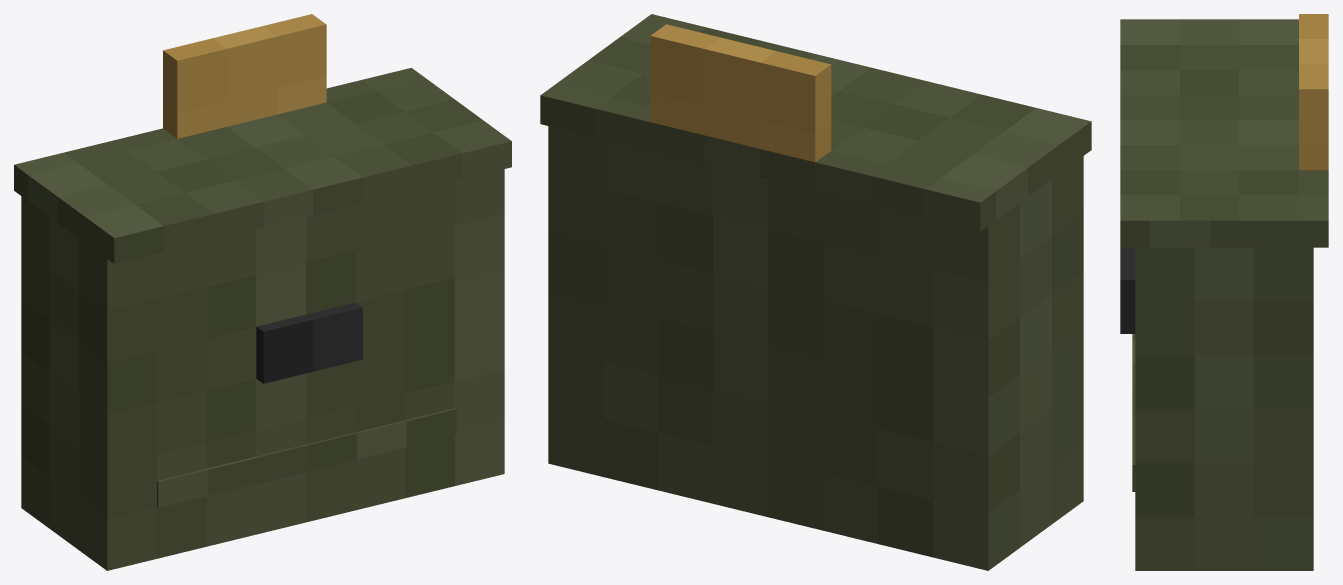
File: KatangaMg1_Magazine.glb
3 views of the same model, side by side, from view 1: azimuth 30°, elevation 25°; view 2: azimuth 150°, elevation 25°; view 3: azimuth 270°, elevation 25° (orthographic). The views are drawn at different scales.
Parts seen in each view (by area): view 1: Ammo box, Ammo box lid, Belt, Ammo box rib, Ammo box latch; view 2: Ammo box, Ammo box lid, Belt; view 3: Ammo box, Ammo box lid, Belt, Ammo box latch, Ammo box rib.
Part boxes in pixels (<box>): Ammo box: <box>21,169,504,570</box>; Ammo box lid: <box>14,68,511,263</box>; Belt: <box>163,14,326,138</box>; Ammo box rib: <box>157,408,456,507</box>; Ammo box latch: <box>256,302,362,383</box>; Ammo box: <box>548,126,1083,570</box>; Ammo box lid: <box>540,14,1091,231</box>; Belt: <box>650,24,831,162</box>; Ammo box: <box>1135,247,1313,570</box>; Ammo box lid: <box>1120,19,1328,247</box>; Belt: <box>1299,14,1328,170</box>; Ammo box latch: <box>1120,247,1135,333</box>; Ammo box rib: <box>1132,334,1135,491</box>.
Bounding box in the file's own units: 0.11 × 0.11 × 0.0481.
1 material, 1 textured.
